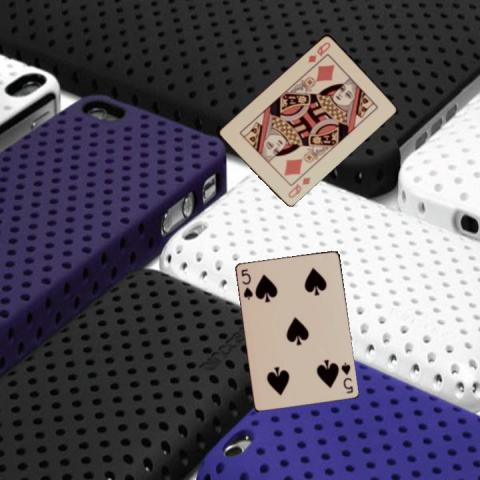5s: (338, 359, 355, 395), (238, 266, 255, 301)
Qd: (285, 174, 312, 200), (305, 39, 332, 64)
